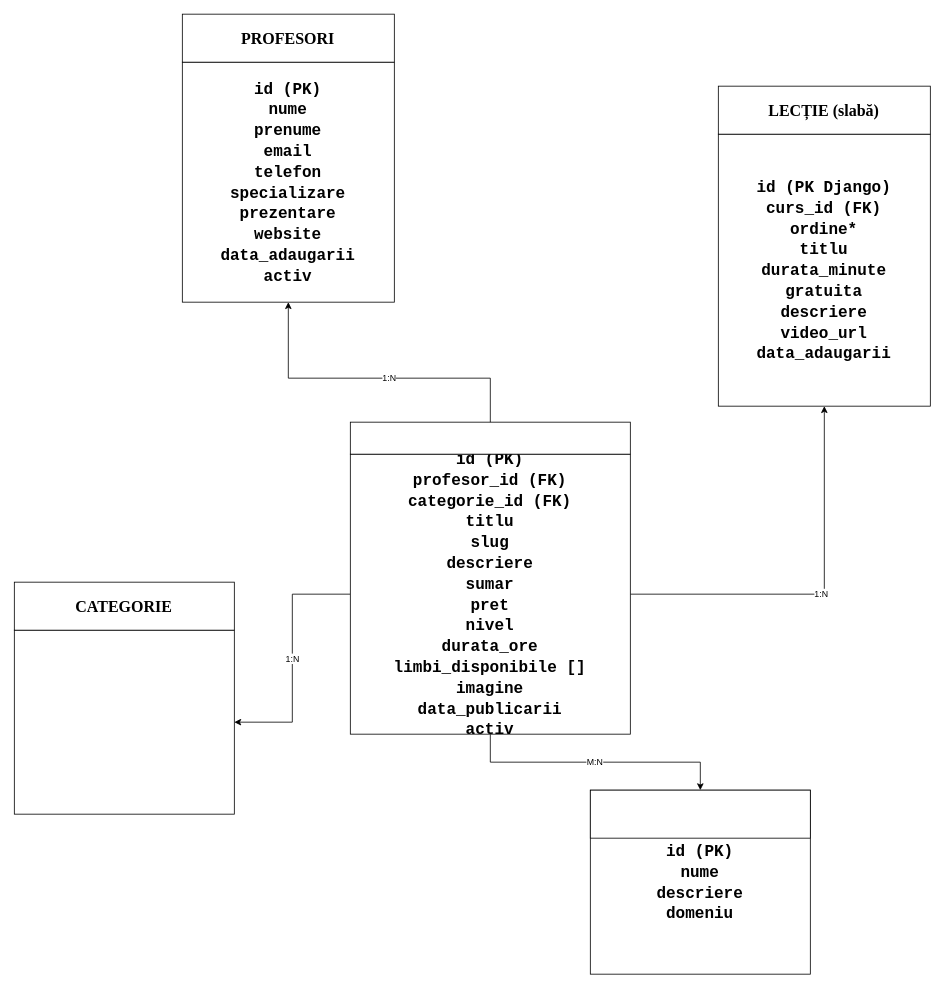
Some shapes in this 944 by 988 pixel diagram are drawn without their labels. The centre of each missing label's shape, as x and y in pixels:
COMPETENȚĂ: point (700, 813)
CURS: point (490, 437)
id (PK) nume slug descriere culoare sigla ordine data_adaugarii activa: point (124, 721)
